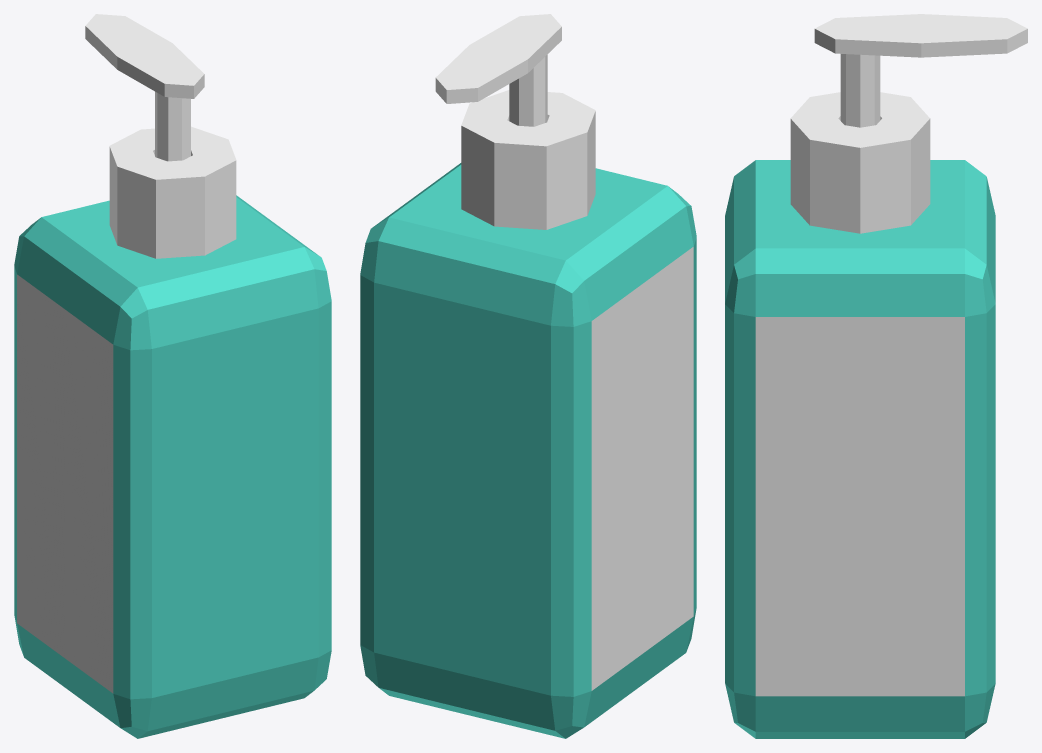
The model's file is SoapBottle.fbx.
The picture shows the model from 3 angles, left to right: view 1: azimuth 30°, elevation 25°; view 2: azimuth 150°, elevation 25°; view 3: azimuth 270°, elevation 25°; orthographic projection. The views are drawn at different scales.
Parts seen in each view (by area): view 1: Cube, Cube.001; view 2: Cube, Cube.001; view 3: Cube, Cube.001.
Part boxes in pixels (<box>): Cube: <box>14,126,331,738</box>; Cube.001: <box>85,14,204,161</box>; Cube: <box>360,90,696,738</box>; Cube.001: <box>435,14,561,126</box>; Cube: <box>725,92,995,738</box>; Cube.001: <box>814,14,1027,127</box>.
Bounding box in the file's own units: 200 × 543 × 224.
Materials: 1 (1 with a texture image).
